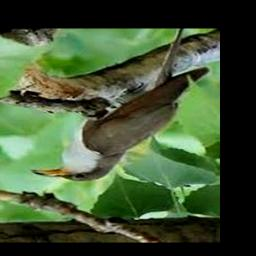Cuckoo: (30, 29, 208, 182)
